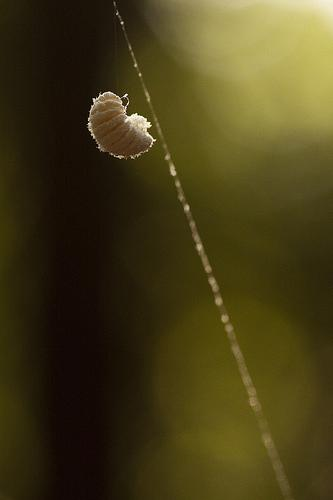grub: (83, 87, 158, 162)
